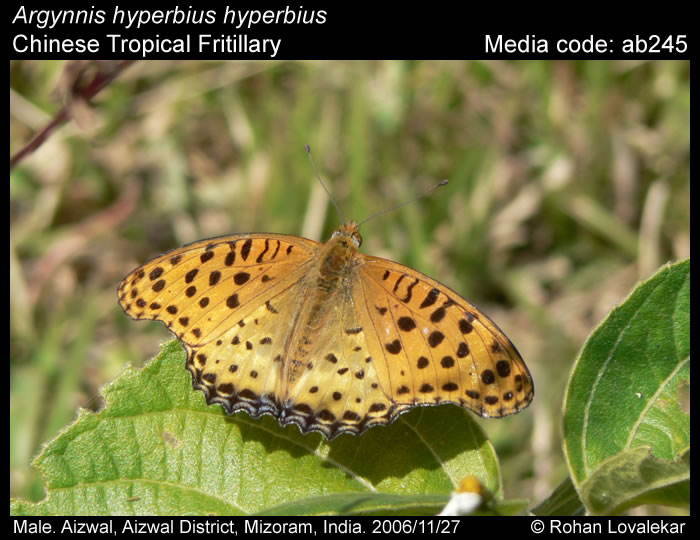Argyreus hyperbius: (116, 138, 536, 439)
butterfly: (118, 140, 538, 441)
